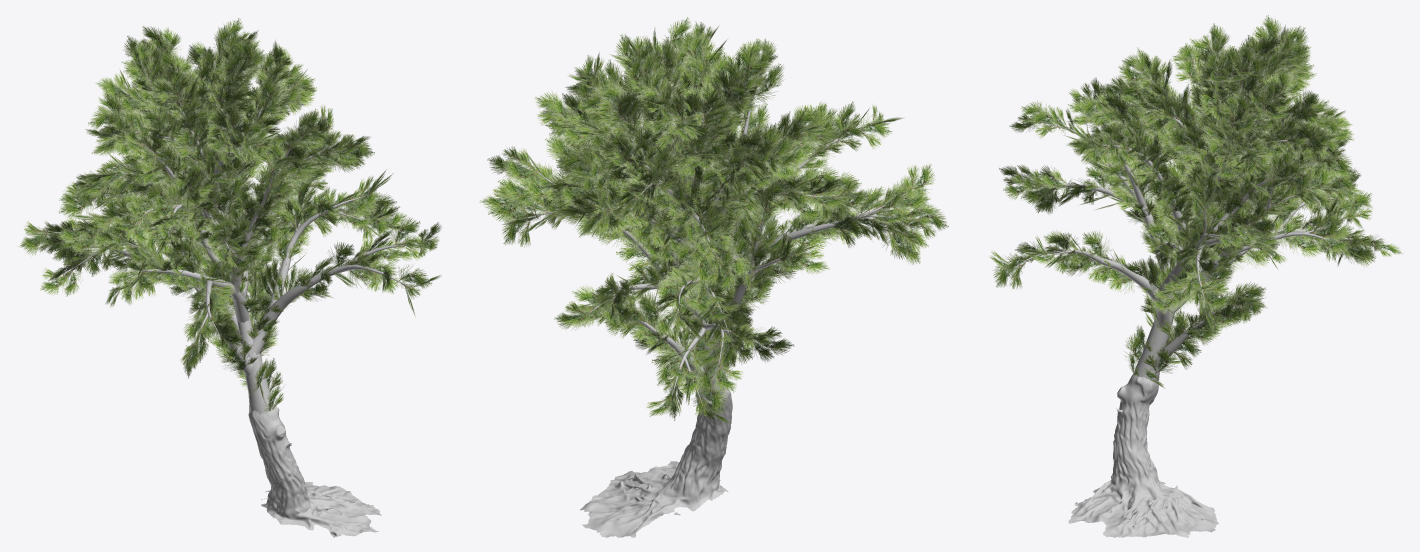
3 renders of one model, left to right at view 1: azimuth 30°, elevation 25°; view 2: azimuth 150°, elevation 25°; view 3: azimuth 270°, elevation 25°, orthographic. The views are drawn at different scales.
Visible parts, largest first — view 1: leaves.001, CrazyRootsHIGH_crazyrootsBranchHIGH_0, CrazyRootsHIGH_CrazyRootsTrunkHIGH_0; view 2: leaves.001, CrazyRootsHIGH_CrazyRootsTrunkHIGH_0, CrazyRootsHIGH_crazyrootsBranchHIGH_0; view 3: leaves.001, CrazyRootsHIGH_CrazyRootsTrunkHIGH_0, CrazyRootsHIGH_crazyrootsBranchHIGH_0.
Boxes of the visible parts, left/top/right/bottom form: leaves.001: left=19, top=18, right=441, bottom=413; CrazyRootsHIGH_crazyrootsBranchHIGH_0: left=45, top=74, right=420, bottom=414; CrazyRootsHIGH_CrazyRootsTrunkHIGH_0: left=248, top=405, right=381, bottom=537; leaves.001: left=479, top=17, right=948, bottom=423; CrazyRootsHIGH_CrazyRootsTrunkHIGH_0: left=580, top=387, right=732, bottom=537; CrazyRootsHIGH_crazyrootsBranchHIGH_0: left=530, top=52, right=911, bottom=405; leaves.001: left=989, top=15, right=1402, bottom=388; CrazyRootsHIGH_CrazyRootsTrunkHIGH_0: left=1068, top=374, right=1218, bottom=537; CrazyRootsHIGH_crazyrootsBranchHIGH_0: left=1017, top=62, right=1371, bottom=380.
Bounding box in the file's own units: 4.34 × 5.59 × 4.64.
